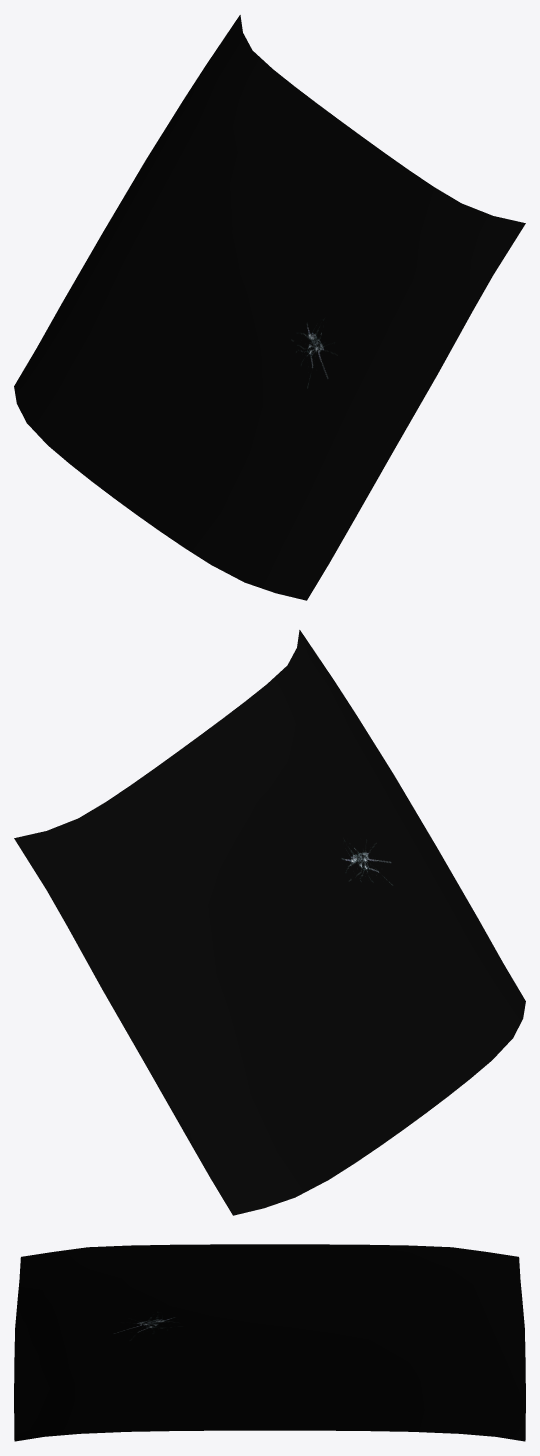
The model's file is damage_Crack.glb.
3 views of the same model, one above another, from view 1: azimuth 30°, elevation 25°; view 2: azimuth 150°, elevation 25°; view 3: azimuth 270°, elevation 25° (orthographic). The views are drawn at different scales.
Visible parts, largest first — view 1: damage_GlassCrack; view 2: damage_GlassCrack; view 3: damage_GlassCrack.
Boxes of the visible parts, <box> form: damage_GlassCrack: <box>14,15,525,600</box>; damage_GlassCrack: <box>14,630,525,1215</box>; damage_GlassCrack: <box>14,1244,525,1441</box>.
Bounding box in the file's own units: 0.9704 × 1.17 × 1.91.
1 material, 1 textured.
